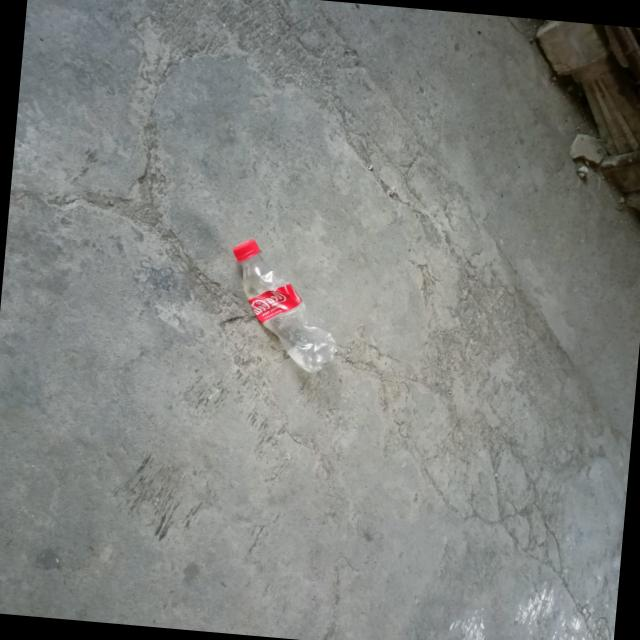Bottle: (232, 238, 336, 371)
